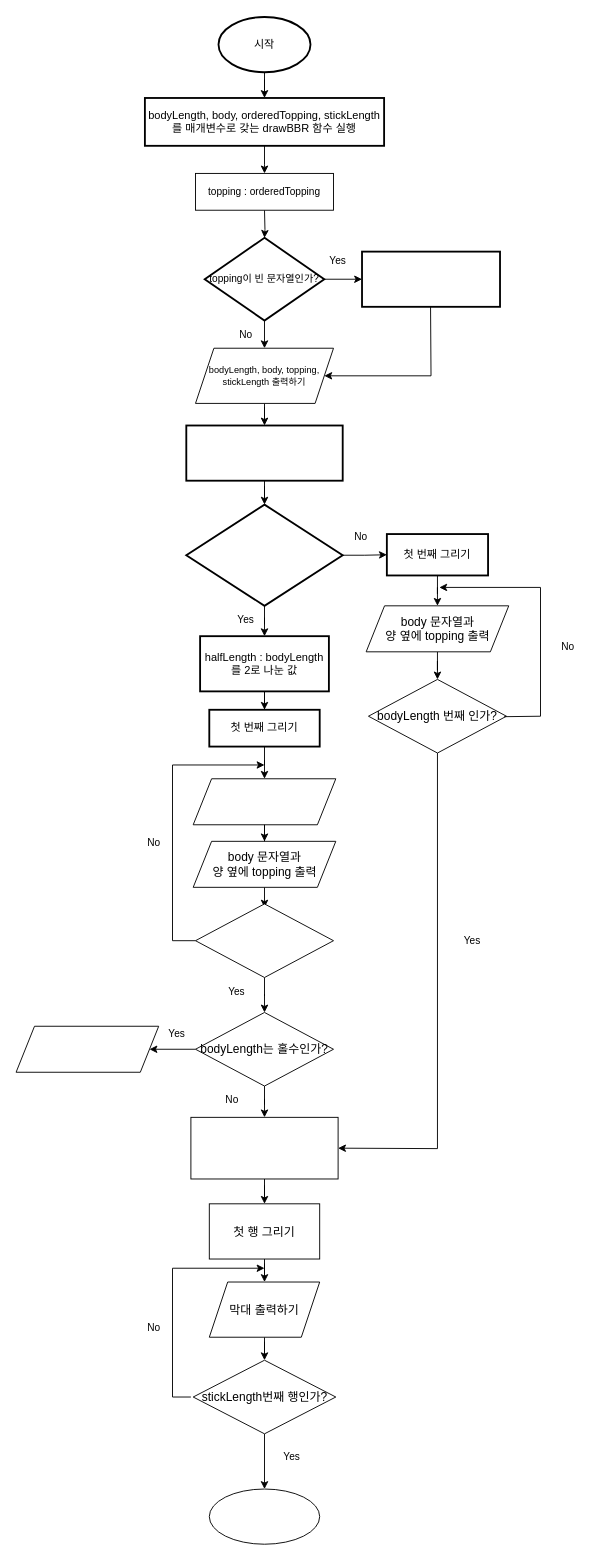
The diagram is 612 pixels wide and 1560 high, and some of its shapes have lost their labels. The centre of each missing label's shape, as x and y in pixels:
"| |" 문자열과 양 옆에 topping 출력: [264,801]
"| |" 문자열과 양 옆에 topping 한번 더 출력: [87,1048]
body 문자열의 앞부분에 "|"이 존재하는가?: [264,554]
body, topping, bodyLength를 매개변수로 갖는 drawFullBody 함수 실행: [264,452]
halfLength 번째 인가?: [264,940]
stickLength를 매개변수로 갖는 drawStick 함수 실행: [264,1147]
topping에 공백문자 넣어주기: [430,278]
종료: [264,1516]
